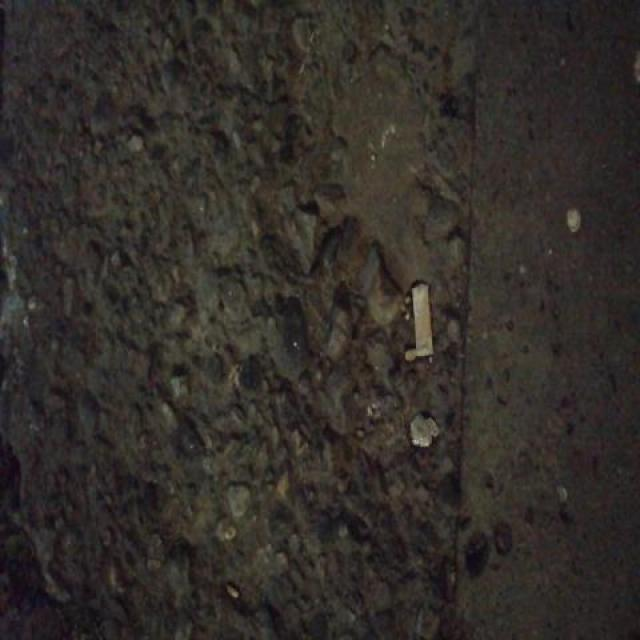non-organic waste: (406, 276, 438, 364)
